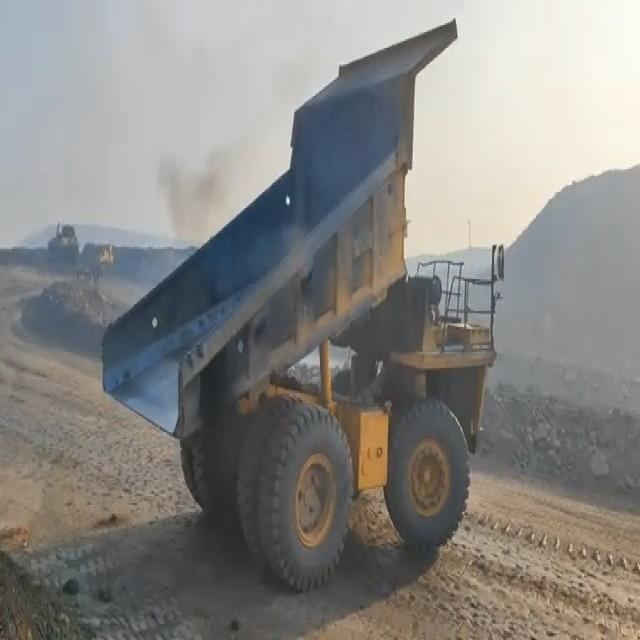dump_truck: (98, 25, 504, 570)
